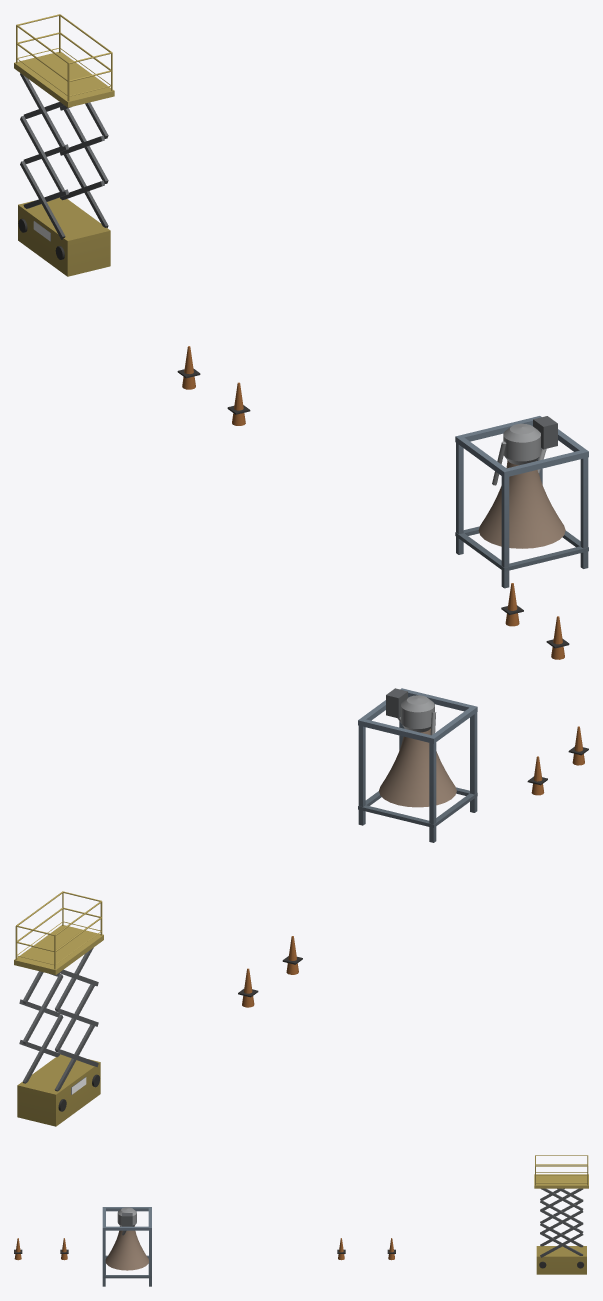
File: kit_e.glb
3 renders of one model, top to bottom at view 1: azimuth 30°, elevation 25°; view 2: azimuth 150°, elevation 25°; view 3: azimuth 270°, elevation 25°, orthographic. The views are drawn at different scales.
Parts seen in each view (by area): view 1: kit_e; view 2: kit_e; view 3: kit_e.
Boxes of the visible parts, bbox=[...] form: kit_e: bbox=[14, 14, 588, 659]; kit_e: bbox=[14, 688, 588, 1126]; kit_e: bbox=[14, 1155, 588, 1286].
Size of the model in its own units: 3.38 by 5.72 by 27.4.
